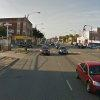Car: (69, 54, 99, 94)
